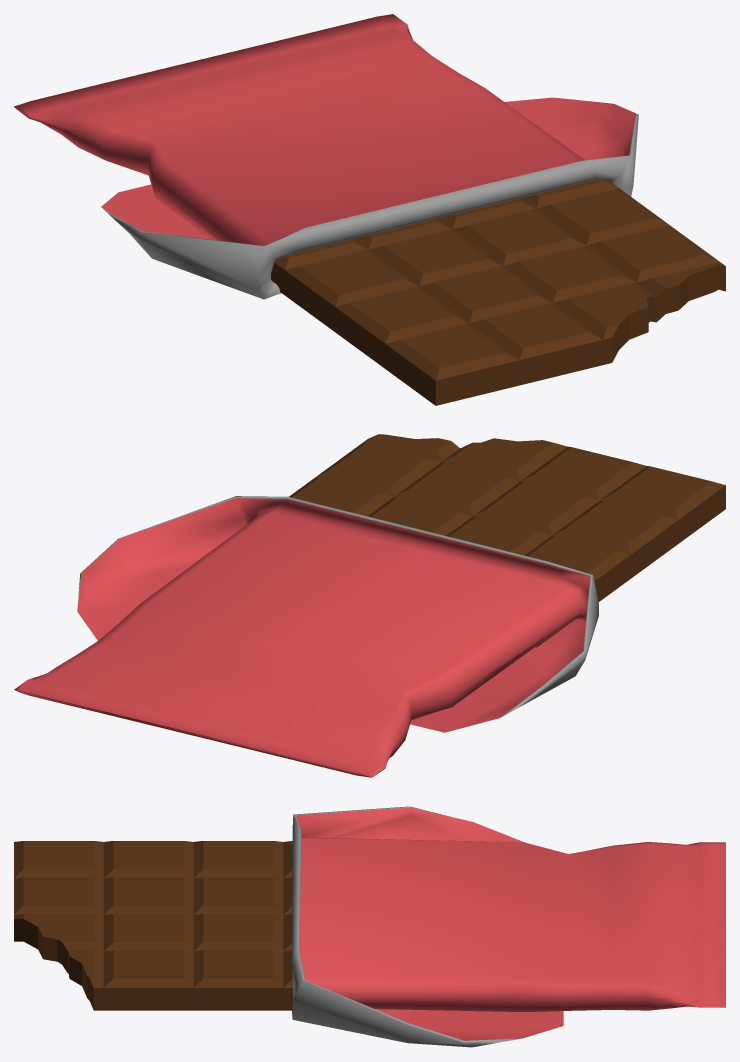
The model's file is chocolate_prop.fbx.
3 renders of one model, top to bottom at view 1: azimuth 30°, elevation 25°; view 2: azimuth 150°, elevation 25°; view 3: azimuth 270°, elevation 25°, orthographic. The views are drawn at different scales.
Visible parts, largest first — view 1: Cube; view 2: Cube; view 3: Cube.
Boxes of the visible parts, box(x1,y1,x2,y2) form: Cube: box(14, 14, 725, 405); Cube: box(14, 434, 725, 777); Cube: box(14, 806, 725, 1047).
Bounding box in the file's own units: 510 × 61.72 × 696.
